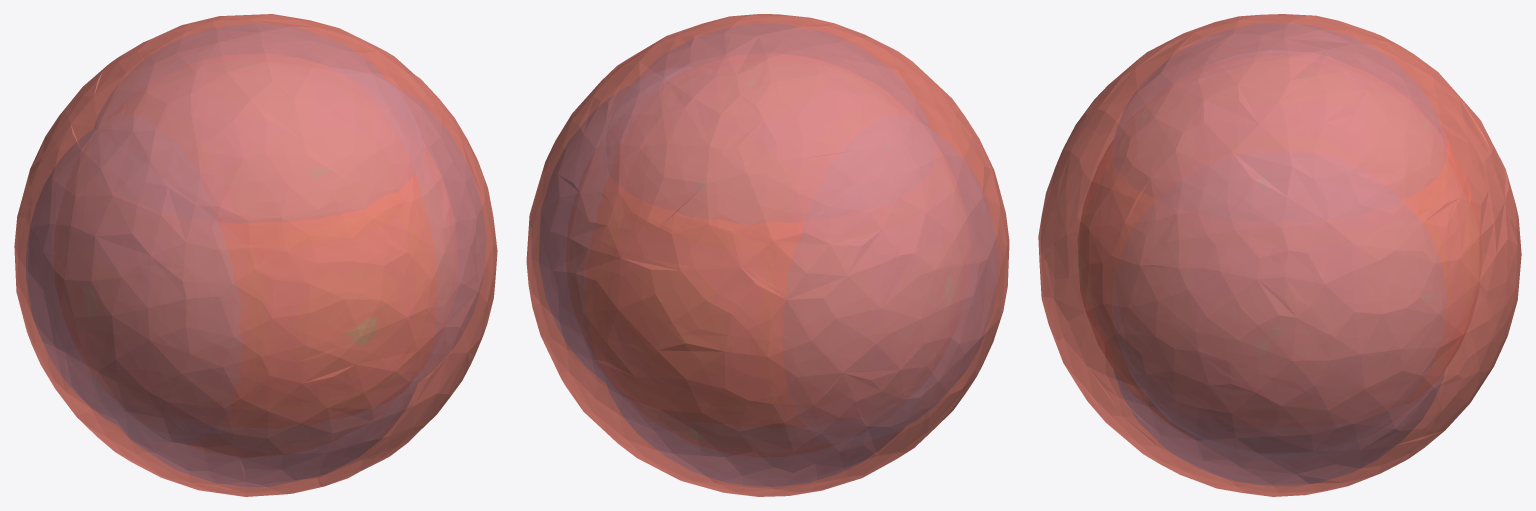
Rendered from orbital.glb.
3 views of the same model, side by side, from view 1: azimuth 30°, elevation 25°; view 2: azimuth 150°, elevation 25°; view 3: azimuth 270°, elevation 25° (orthographic).
Parts seen in each view (by area): view 1: Pb_n6_s_ml0_node, Pb_n5_s_ml0_node, Pb_n6_p_ml-1_node, Pb_n6_p_ml1_node, Pb_n5_d_ml0_node; view 2: Pb_n6_s_ml0_node, Pb_n5_s_ml0_node, Pb_n6_p_ml-1_node, Pb_n6_p_ml1_node; view 3: Pb_n6_s_ml0_node, Pb_n6_p_ml-1_node, Pb_n5_s_ml0_node, Pb_n6_p_ml1_node.
Part boxes in pixels (x1=…): Pb_n6_s_ml0_node: x1=14, y1=14, x2=497, y2=496; Pb_n5_s_ml0_node: x1=219, y1=175, x2=437, y2=428; Pb_n6_p_ml-1_node: x1=94, y1=24, x2=417, y2=486; Pb_n6_p_ml1_node: x1=26, y1=84, x2=485, y2=440; Pb_n5_d_ml0_node: x1=347, y1=318, x2=377, y2=345; Pb_n6_s_ml0_node: x1=526, y1=14, x2=1009, y2=496; Pb_n5_s_ml0_node: x1=586, y1=175, x2=806, y2=428; Pb_n6_p_ml-1_node: x1=606, y1=24, x2=929, y2=486; Pb_n6_p_ml1_node: x1=539, y1=86, x2=997, y2=439; Pb_n6_s_ml0_node: x1=1038, y1=14, x2=1521, y2=496; Pb_n6_p_ml-1_node: x1=1113, y1=23, x2=1445, y2=485; Pb_n5_s_ml0_node: x1=1078, y1=139, x2=1481, y2=403; Pb_n6_p_ml1_node: x1=1112, y1=299, x2=1446, y2=458.
Size of the model in its own units: 3.06 by 3.06 by 3.06.
